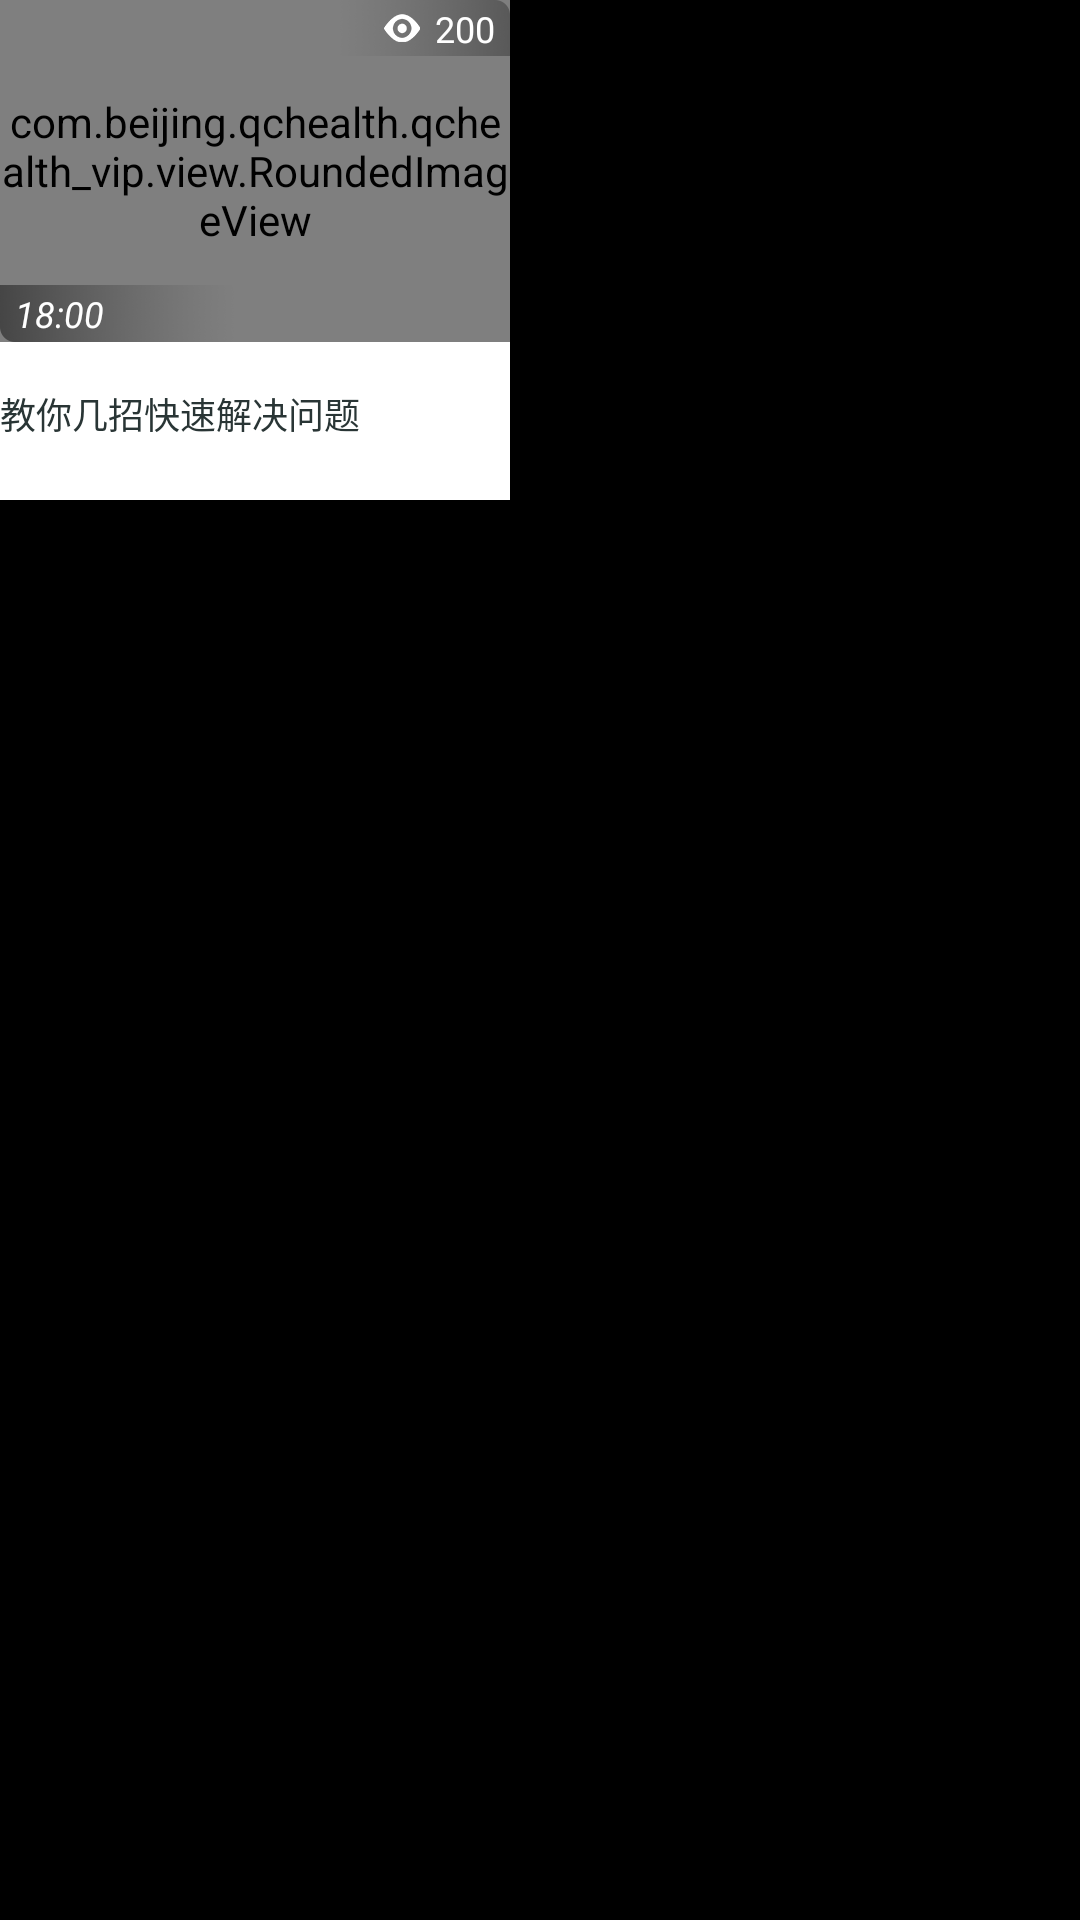

Point at icon controls on the screen. Image size 1080 x 1920, points as [x,y].
scan count: [402,28]
